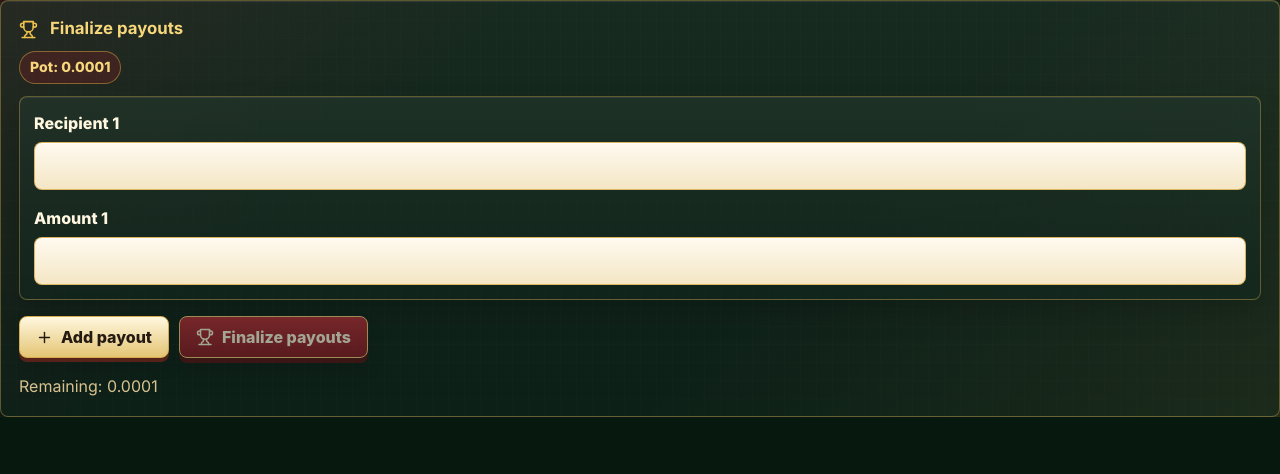
Test: FinalizeForm › rejects zero payout amounts
Step 1. Type "0x0000000000000000000000000000000000000001" into the field labelled "Recipient 1" → (640, 166), box [34,142,1246,190]
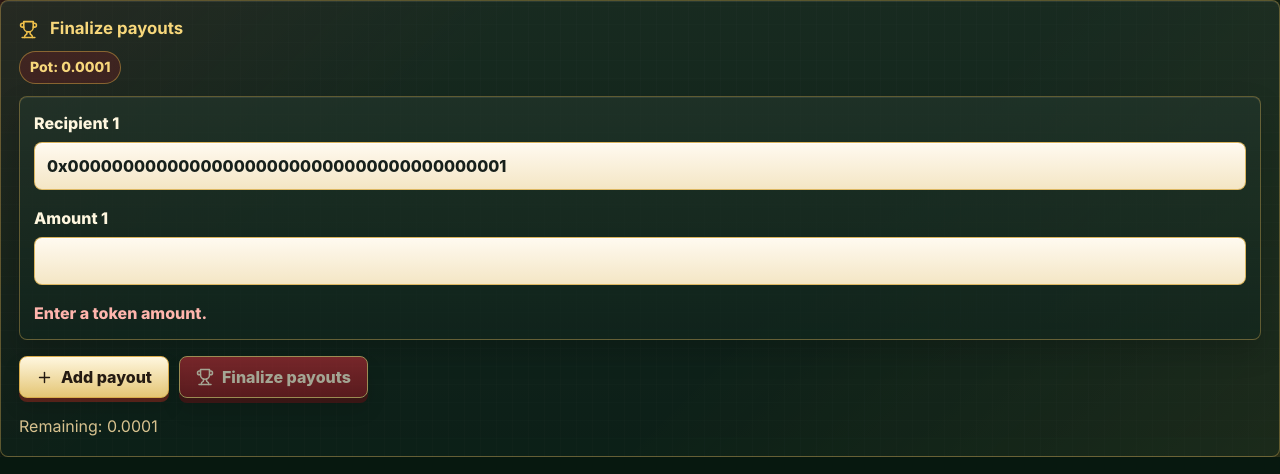
Step 2. Type "0" into the field labelled "Amount 1" → (640, 261), box [34,237,1246,285]
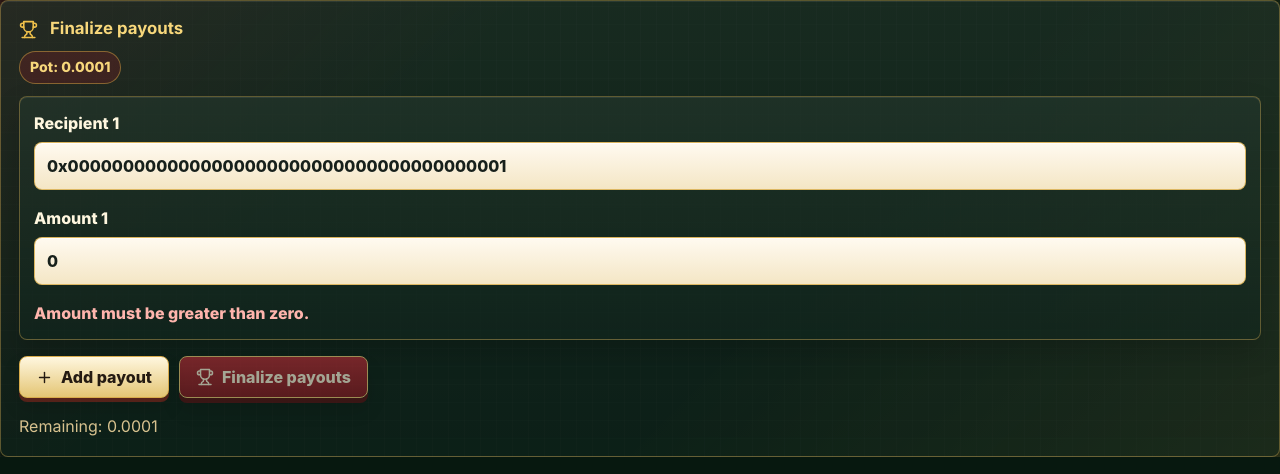
Expected: the button "Finalize payouts" is disabled, [179,356,368,398]
Now the message reads "Amount must be greater than zero.", box [34,303,309,323]
